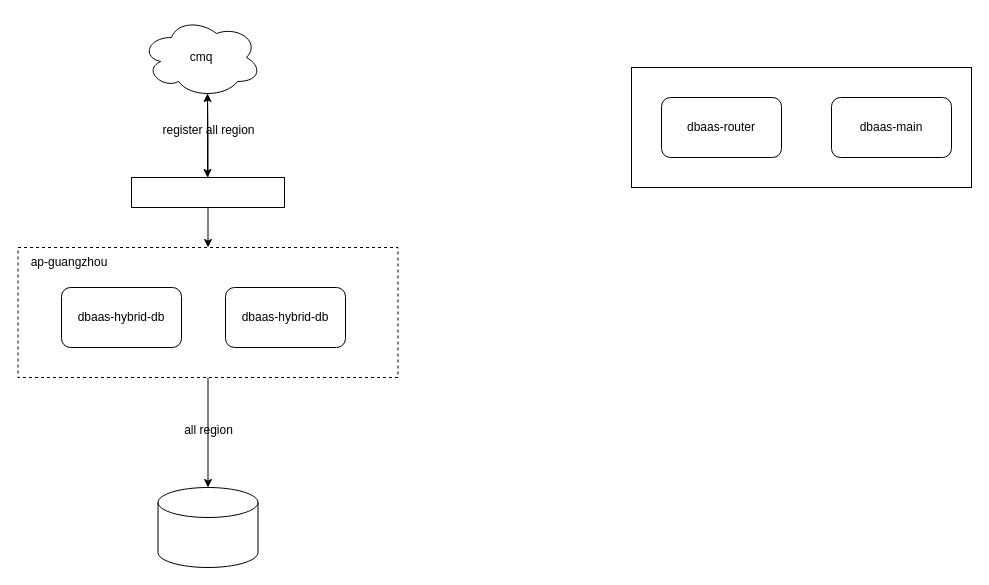
Image size: 989x585. Some labels were removed from this diagram. Here are the shapes that lost their labels. From the top down, the centre of each, then its label:
(x=207, y=192): vip: 11.23.12.139:21001/GetTagsData
(x=207, y=527): db_inst_tags
